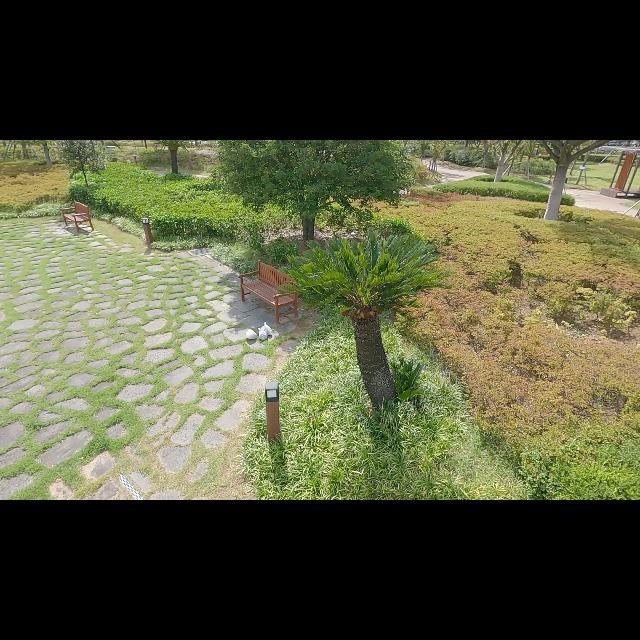trash: (260, 320, 272, 336), (245, 326, 257, 342), (258, 327, 268, 341)
